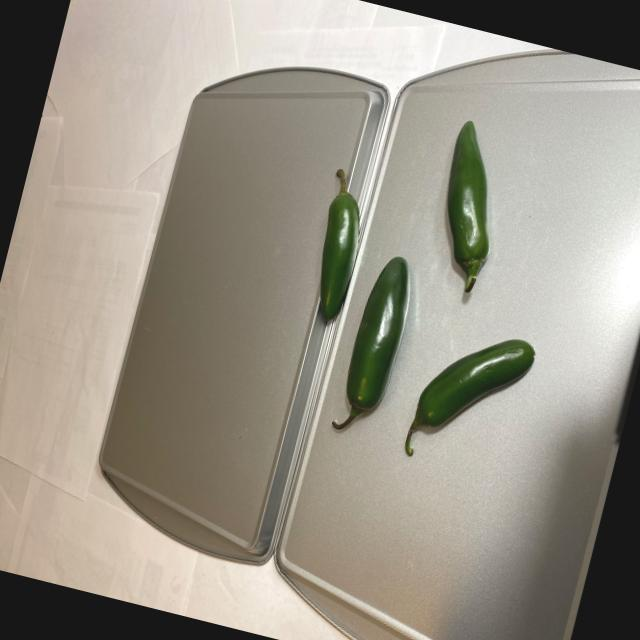chilli: (267, 91, 588, 494)
